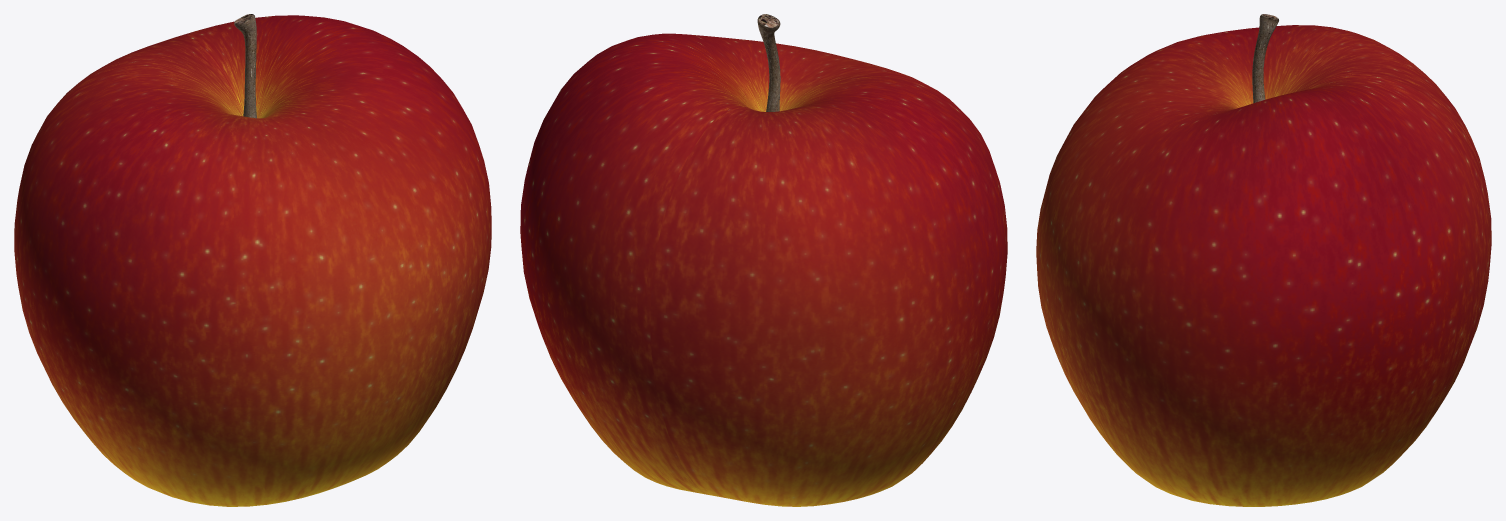
File: Apple_freeze.obj
3 renders of one model, left to right at view 1: azimuth 30°, elevation 25°; view 2: azimuth 150°, elevation 25°; view 3: azimuth 270°, elevation 25°, orthographic. The views are drawn at different scales.
Parts seen in each view (by area): view 1: Skin, Stem; view 2: Skin, Stem; view 3: Skin, Stem.
Boxes of the visible parts, x1,y1,x2,y2 form: Skin: (14, 15, 491, 506); Stem: (234, 14, 256, 118); Skin: (520, 33, 1007, 506); Stem: (757, 14, 780, 111); Skin: (1036, 25, 1491, 506); Stem: (1252, 14, 1278, 103).
Bounding box in the file's own units: 0.0962 × 0.0967 × 0.0895.
